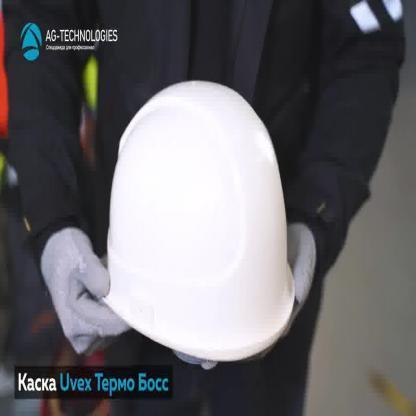gloves: (40, 225, 133, 359), (272, 219, 320, 345)
helmet: (97, 79, 298, 362)
